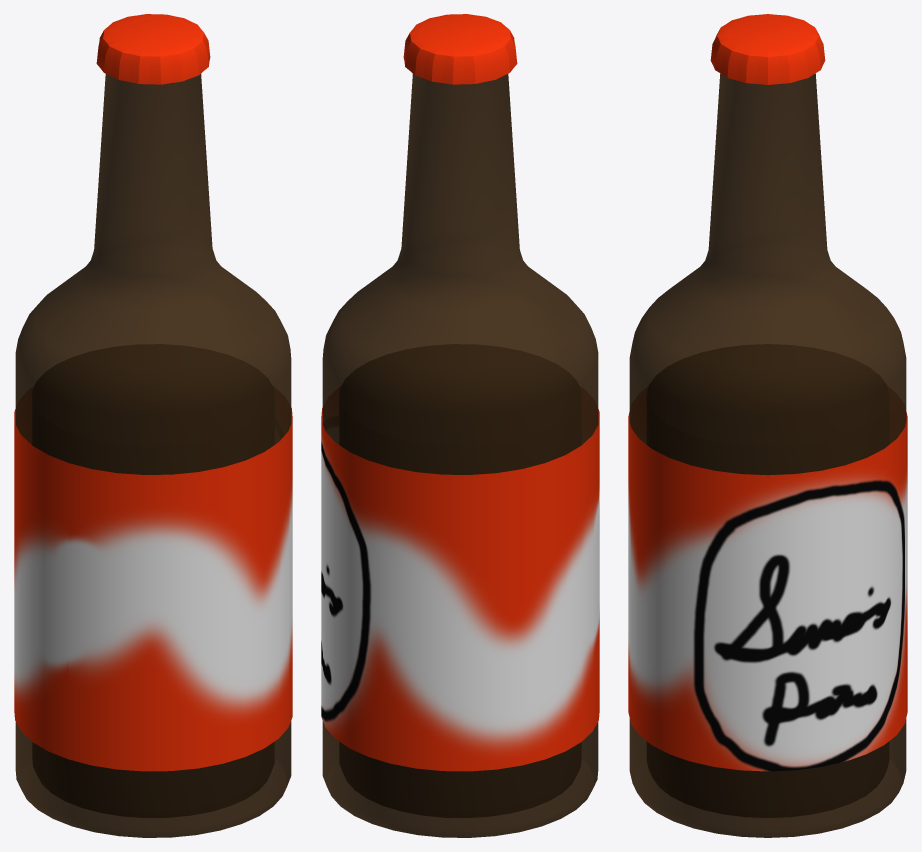
Rendered from rootBeerBottle.fbx.
The picture shows the model from 3 angles, left to right: view 1: azimuth 30°, elevation 25°; view 2: azimuth 150°, elevation 25°; view 3: azimuth 270°, elevation 25°; orthographic projection.
Parts seen in each view (by area): view 1: Cylinder, Cylinder.003, Cylinder.001, Cylinder.002; view 2: Cylinder, Cylinder.003, Cylinder.001, Cylinder.002; view 3: Cylinder, Cylinder.003, Cylinder.001, Cylinder.002.
Boxes of the visible parts, <box> form: Cylinder: <box>15,74,291,837</box>; Cylinder.003: <box>14,408,292,771</box>; Cylinder.001: <box>32,344,274,817</box>; Cylinder.002: <box>96,14,210,84</box>; Cylinder: <box>322,74,598,837</box>; Cylinder.003: <box>321,408,599,771</box>; Cylinder.001: <box>339,344,581,817</box>; Cylinder.002: <box>403,14,517,84</box>; Cylinder: <box>629,73,906,837</box>; Cylinder.003: <box>628,412,907,771</box>; Cylinder.001: <box>647,344,888,817</box>; Cylinder.002: <box>710,14,825,84</box>.
Size of the model in its own units: 202 by 601 by 202.
Materials: 4 (1 with a texture image).
